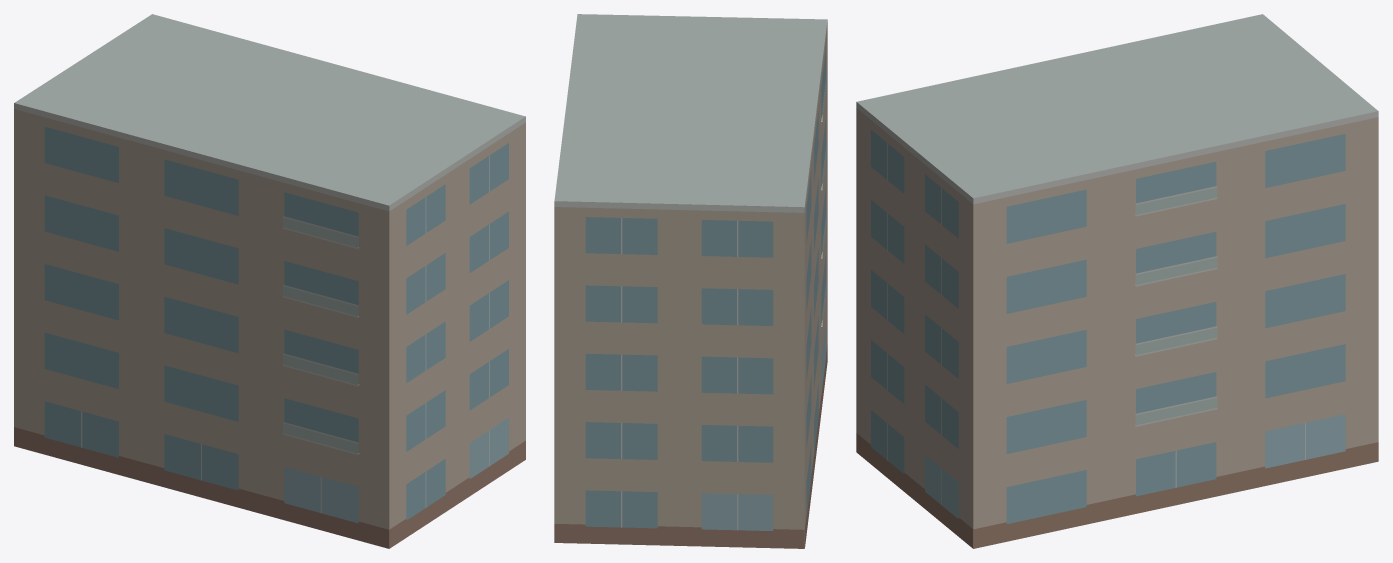
Rendered from survey-upis-32633727.glb.
3 views of the same model, side by side, from view 1: azimuth 30°, elevation 25°; view 2: azimuth 150°, elevation 25°; view 3: azimuth 270°, elevation 25° (orthographic). The views are drawn at different scales.
Parts seen in each view (by area): view 1: survey-upis-32633727.tmp; view 2: survey-upis-32633727.tmp; view 3: survey-upis-32633727.tmp.
Part boxes in pixels (x1=…): survey-upis-32633727.tmp: x1=14, y1=14, x2=525, y2=548; survey-upis-32633727.tmp: x1=554, y1=14, x2=827, y2=548; survey-upis-32633727.tmp: x1=856, y1=14, x2=1378, y2=548.
Size of the model in its own units: 16.14 by 14.3 by 19.32.
